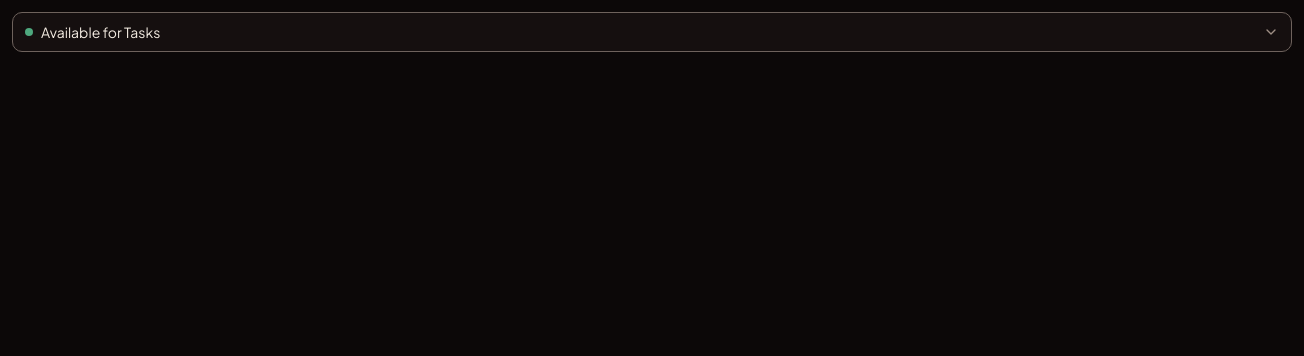
Select Component › closes without selecting on Escape and stops propagation
This screenshot has width=1304, height=356.
Later steps or results of the test are not shown.
Click the dropdown. click: (101, 32)
box: top-left (12, 12), bottom-right (1292, 52)
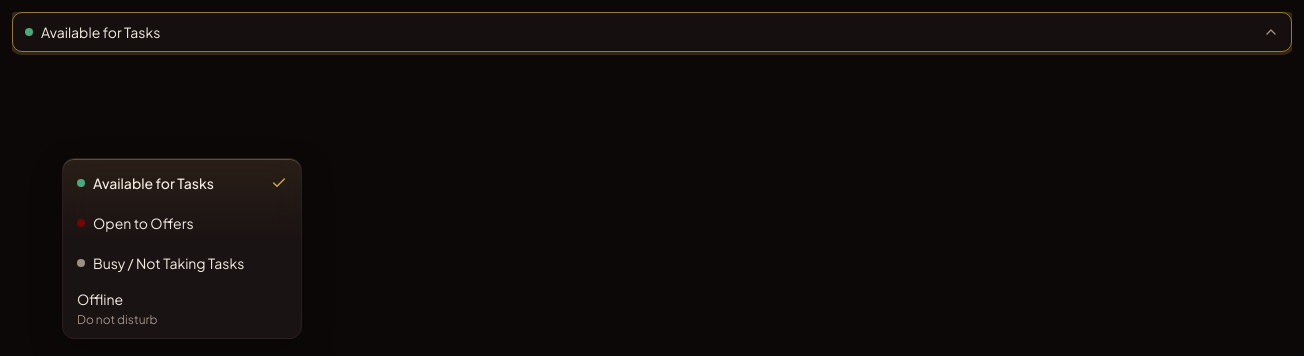
expect the dropdown is expanded: met, box top-left (12, 12), bottom-right (1292, 52)
